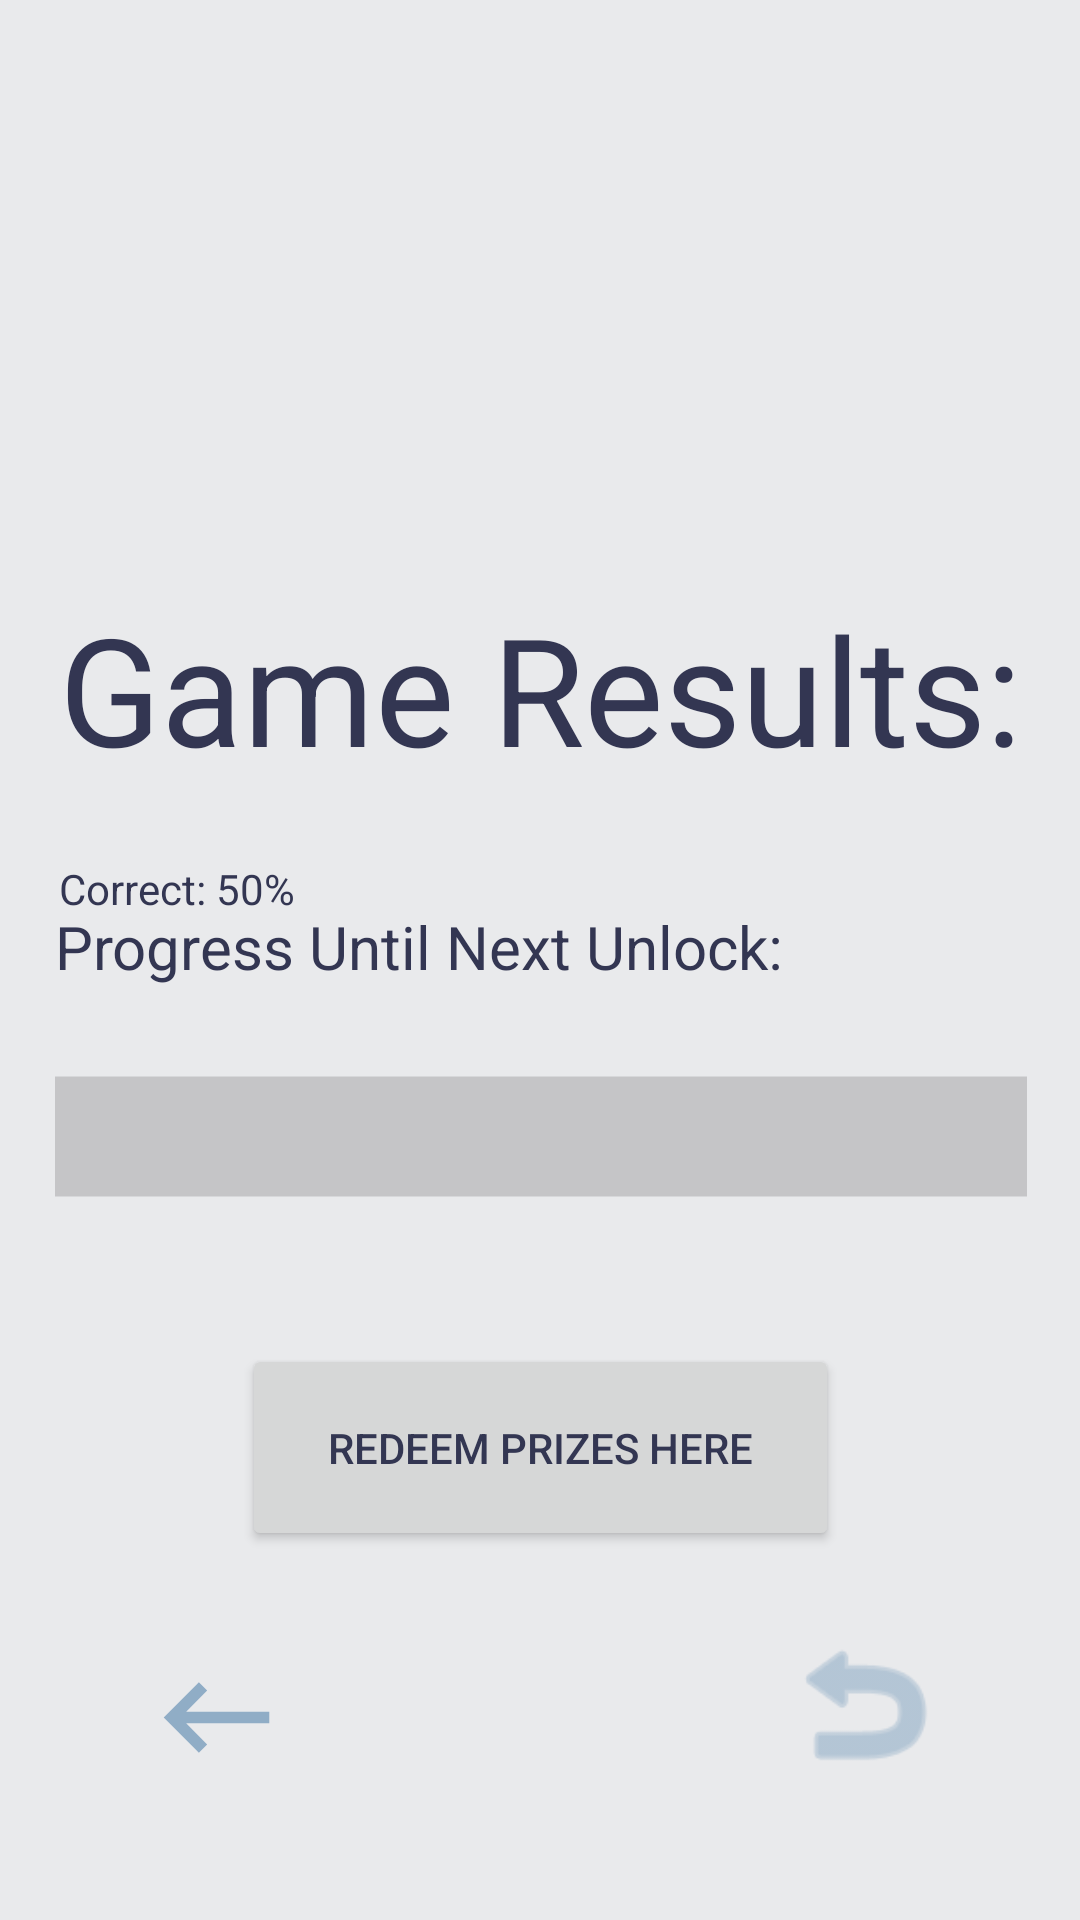

Icon click points for this 1080 x 1920 phone screenshot, format point (x, y):
back: point (217, 1717)
revert: point (866, 1705)
